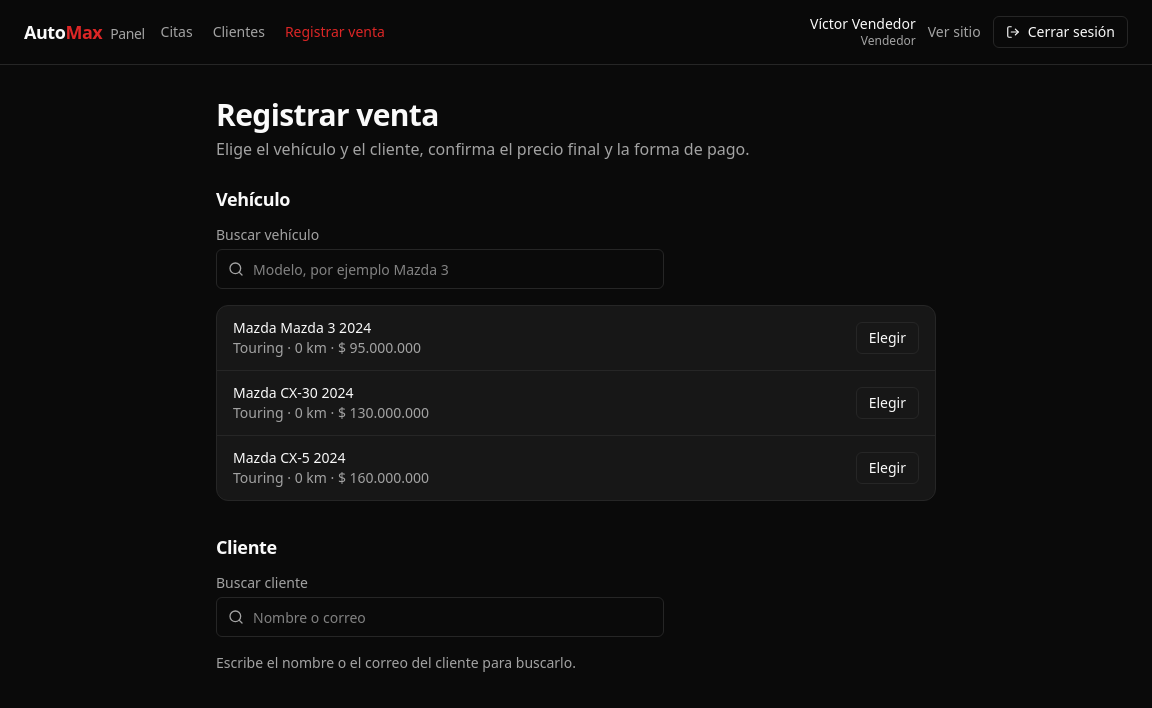
Scenario: registrar venta: formulario › elegir un vehículo lo resume, propone su precio de lista y permite cambiarlo
The width and height of the screenshot is (1152, 708).
Click the button "Elegir" in the row of "Mazda CX-30 2024": [887, 403] box [856,387,919,419]
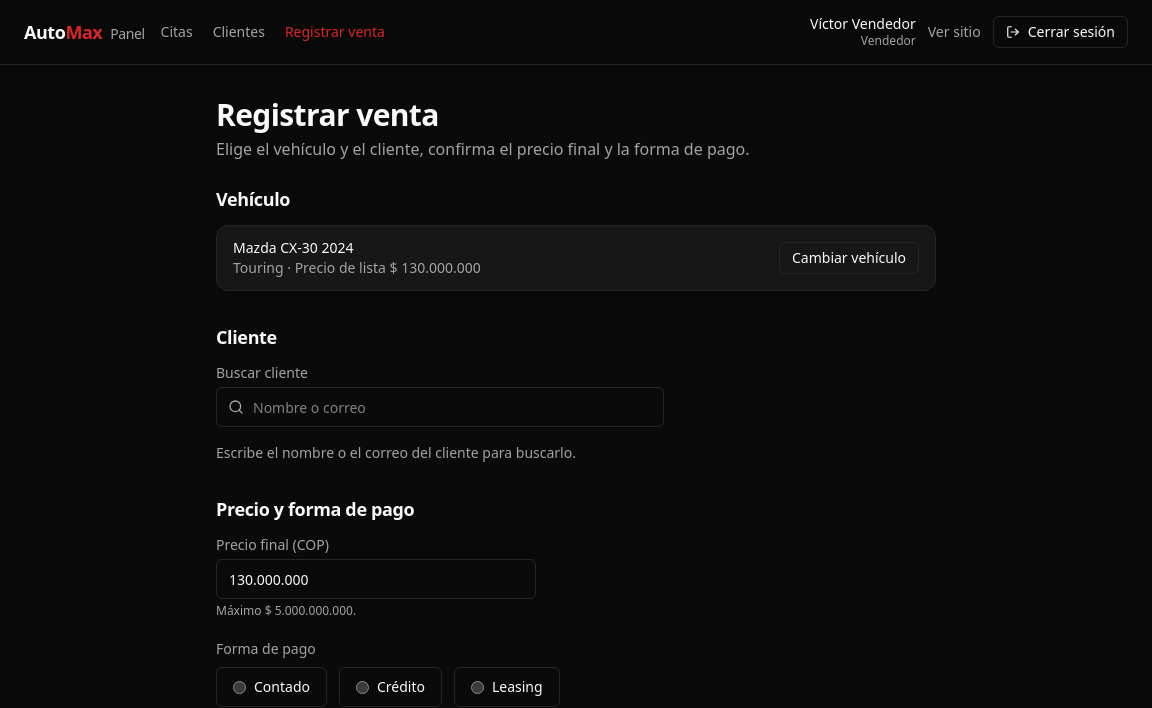
Expected: the text "Mazda CX-30 2024" is shown, [233,238,354,257]
Expected: the field labelled "Precio final (COP)" holds "130.000.000", [216,559,536,599]
Click the button "Cambiar vehículo": [849, 258] box [779,242,919,274]
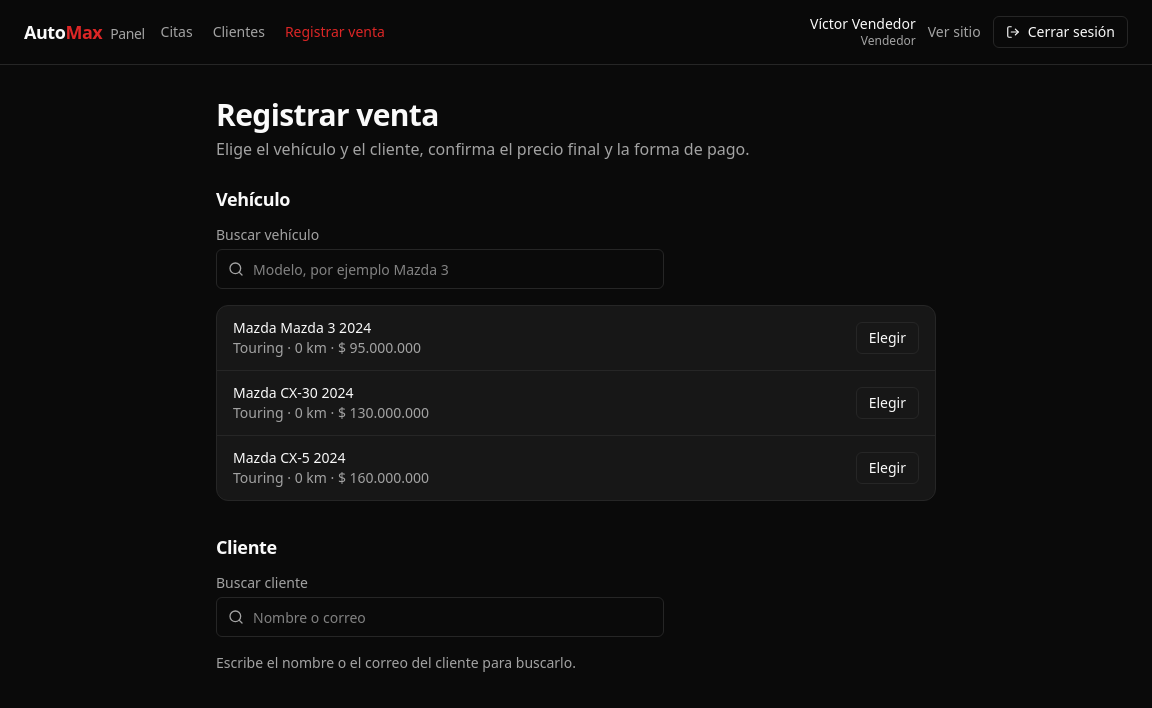
Expected: the list named "Vehículos disponibles" is shown, [216,305,936,501]
